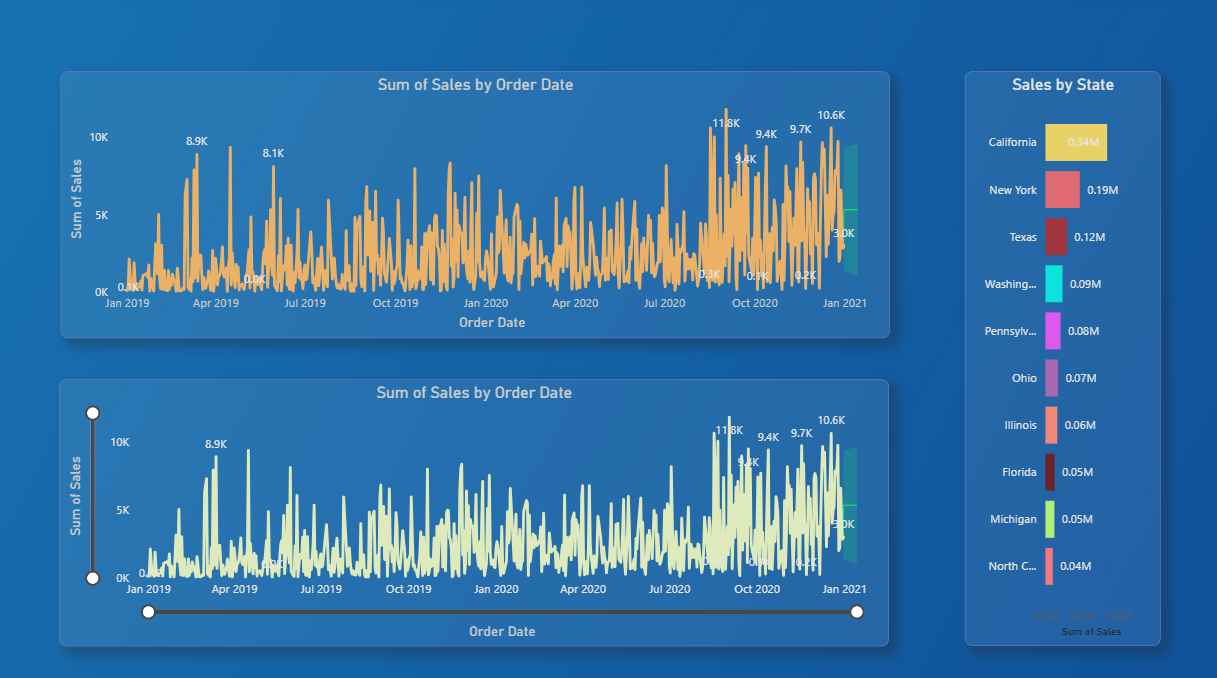

This screenshot's page, from the dashboard's own definition file:
{"tool":"powerbi","page":{"name":"Page 2","canvas":[1280,720],"ordinal":1},"visuals":[{"type":"lineChart","fields":{"Y":["Sum(SuperStore_Sales_Dataset.Sales)"],"Category":["SuperStore_Sales_Dataset.Order Date"]},"box":[65.1,79.8,869.4,280],"z":0},{"type":"lineChart","fields":{"Y":["Sum(SuperStore_Sales_Dataset.Sales)"],"Category":["SuperStore_Sales_Dataset.Order Date"]},"box":[64.2,402.9,869.9,280.2],"z":1000},{"type":"clusteredBarChart","title":" Sales by State","fields":{"Category":["SuperStore_Sales_Dataset.State"],"Y":["Sum(SuperStore_Sales_Dataset.Sales)"]},"box":[1014.3,79.8,205.1,602.4],"z":1001}]}

Visuals, with their boxes in screenshot pixels (x1, y1, x2, y2), scaled from the page's 1280x720 canvas onto the 1217x678 screenshot:
lineChart - Sum(SuperStore_Sales_Dataset.Sales) x SuperStore_Sales_Dataset.Order Date: 62, 75, 889, 339
lineChart - Sum(SuperStore_Sales_Dataset.Sales) x SuperStore_Sales_Dataset.Order Date: 61, 379, 888, 643
" Sales by State" clusteredBarChart: 964, 75, 1159, 642
